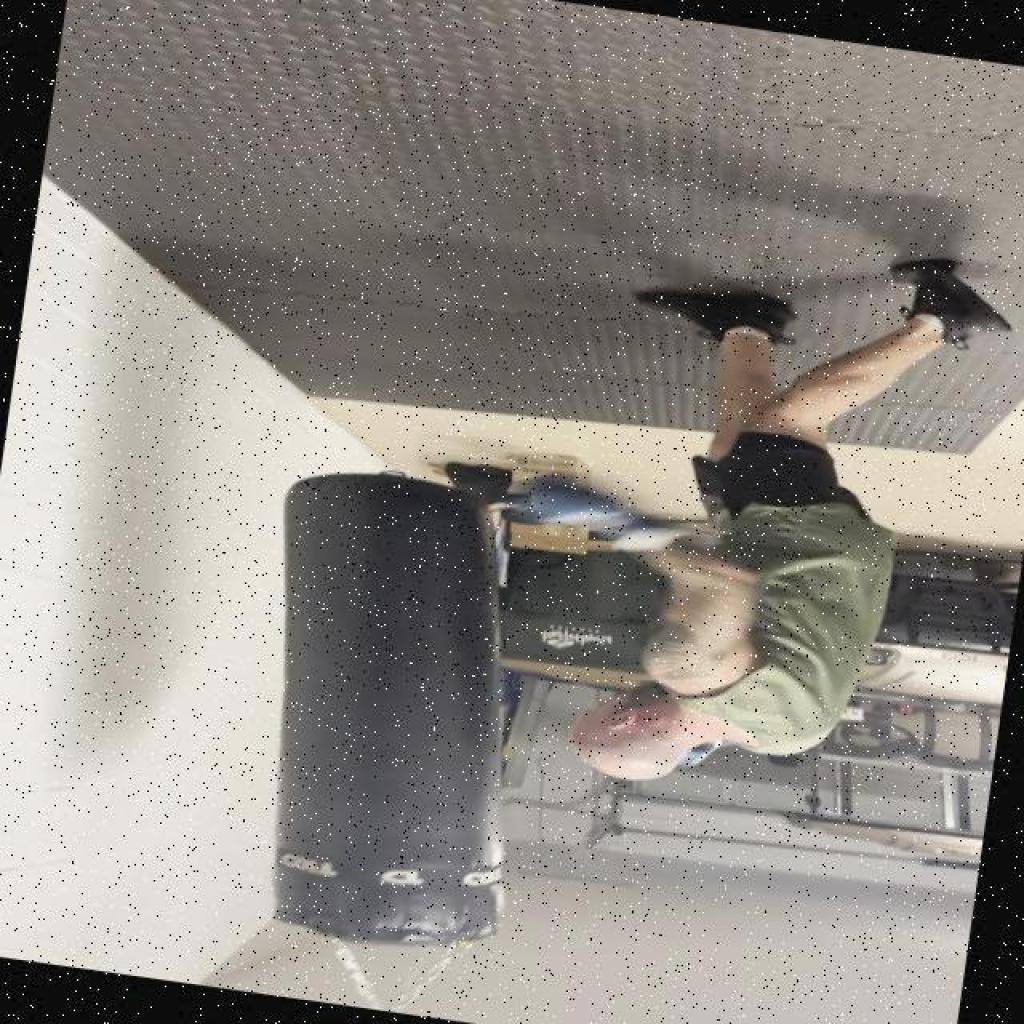bag: (218, 464, 571, 965)
uppercut: (452, 446, 886, 836)
